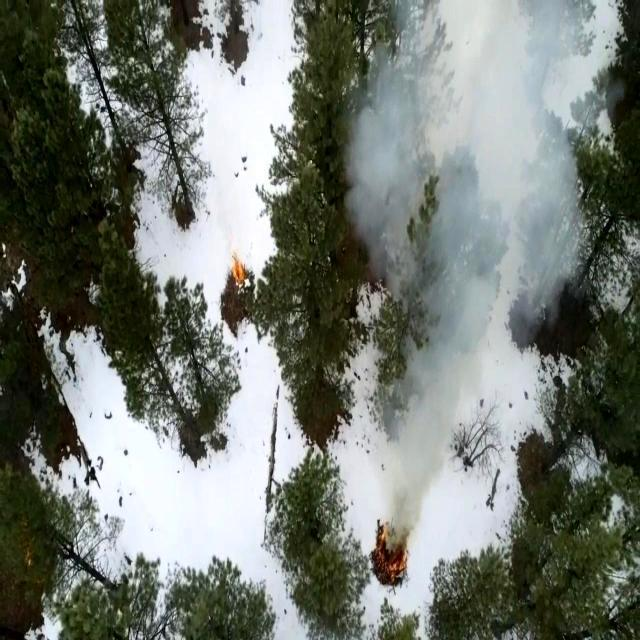Smoke: (340, 10, 620, 388), (378, 352, 474, 548)
